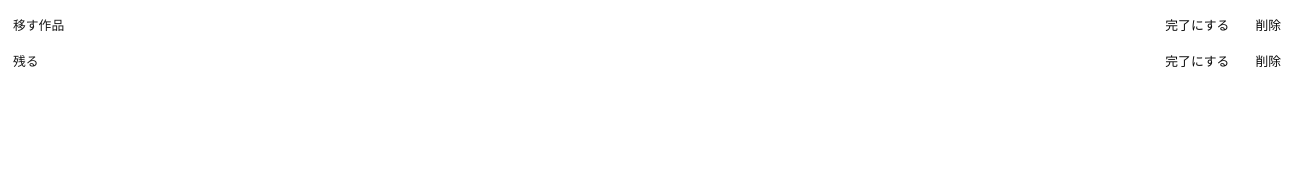
WorkList のステータス変更 › 「完了にする」を押すと、その作品だけが執筆中の一覧から消え、保存される
Click the button with aria-label "「移す作品」を完了にする". click: click(1197, 26)
box: [1154,12,1240,40]
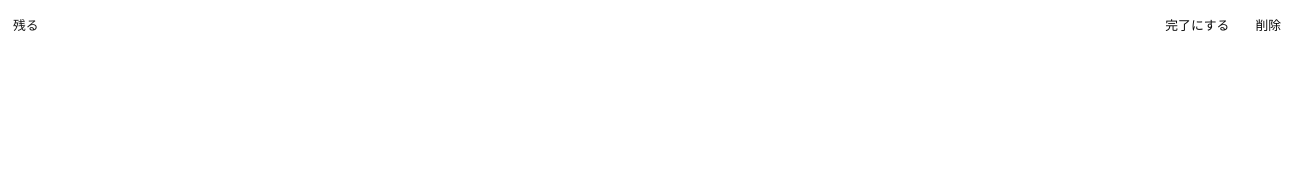
Expected: the button "残る" is shown, [12,15,40,37]
Expected: the button "移す作品" is gone
